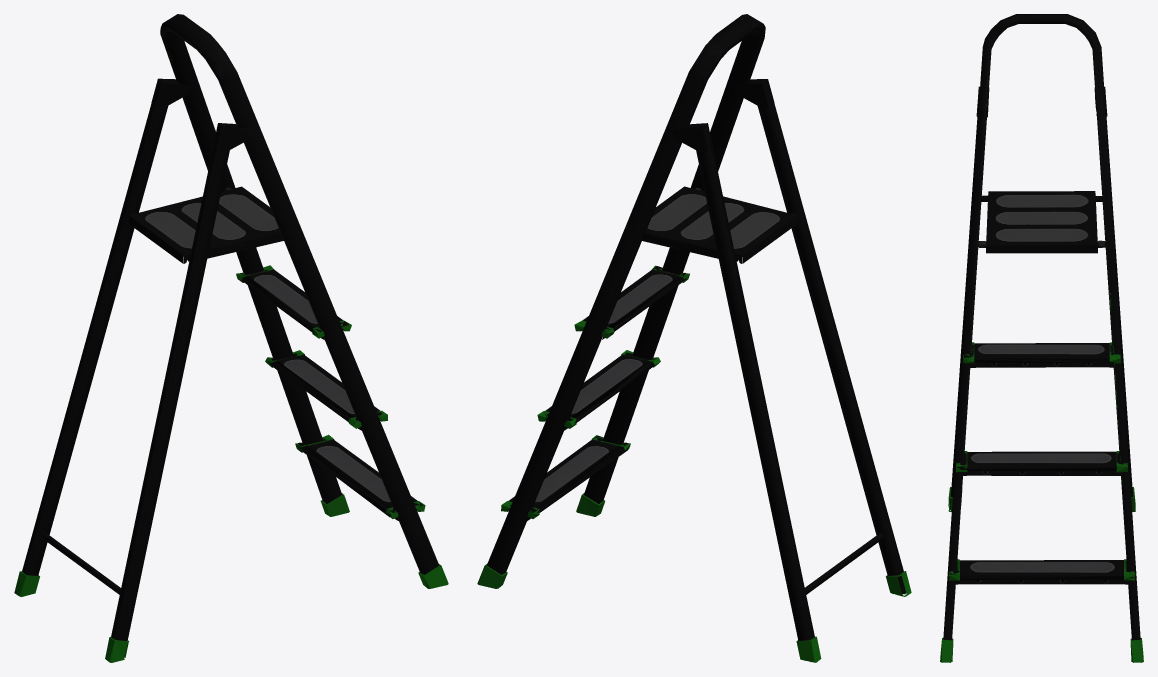
The model's file is merdiven.fbx.
3 renders of one model, left to right at view 1: azimuth 30°, elevation 25°; view 2: azimuth 150°, elevation 25°; view 3: azimuth 270°, elevation 25°, orthographic. The views are drawn at different scales.
Visible parts, largest first — view 1: Pori-_Pori_0.001; view 2: Pori-_Pori_0.001; view 3: Pori-_Pori_0.001.
Part boxes in pixels (<box>): Pori-_Pori_0.001: <box>14,14,448,662</box>; Pori-_Pori_0.001: <box>477,14,911,662</box>; Pori-_Pori_0.001: <box>940,14,1143,662</box>.
Size of the model in its own units: 1.09 by 0.5928 by 1.78.
Materials: 1 (1 with a texture image).
